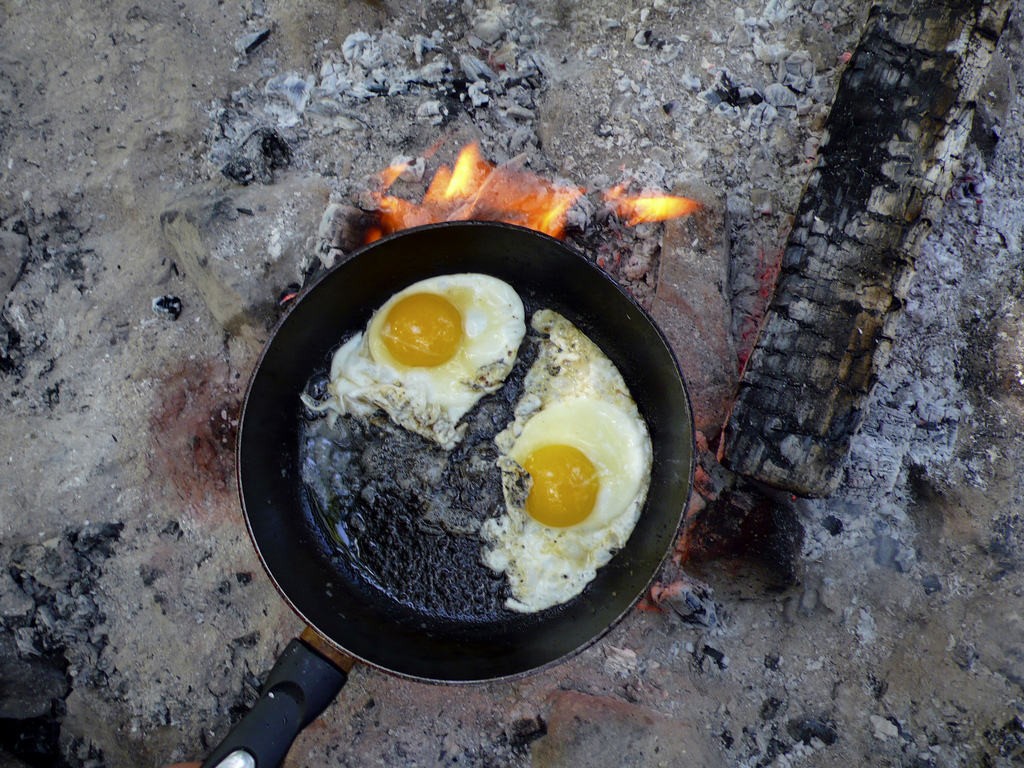fried egg: (500, 311, 643, 611), (349, 277, 511, 422)
